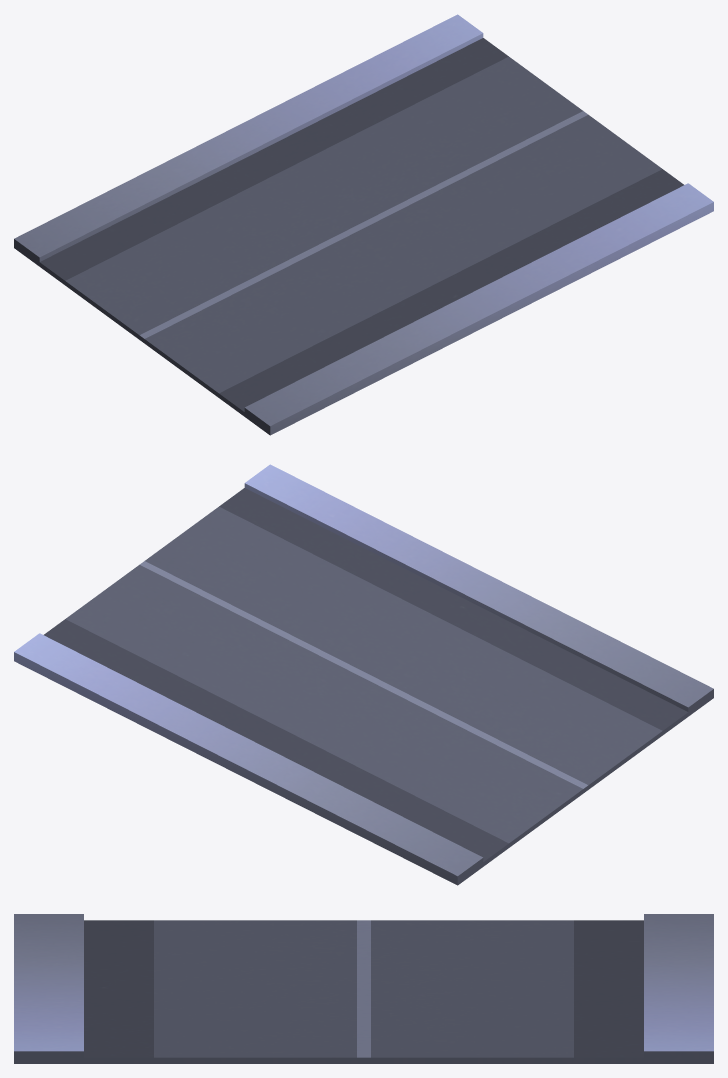
File: road-slant-flat.glb
3 renders of one model, top to bottom at view 1: azimuth 30°, elevation 25°; view 2: azimuth 150°, elevation 25°; view 3: azimuth 270°, elevation 25°, orthographic. The views are drawn at different scales.
Visible parts, largest first — view 1: road-slant-flat; view 2: road-slant-flat; view 3: road-slant-flat.
Part boxes in pixels (box(x1,y1,x2,y2)): road-slant-flat: box(14, 14, 713, 435); road-slant-flat: box(14, 464, 713, 885); road-slant-flat: box(14, 914, 713, 1063).
Bounding box in the file's own units: 1 × 0.27 × 1.
1 material, 1 textured.
